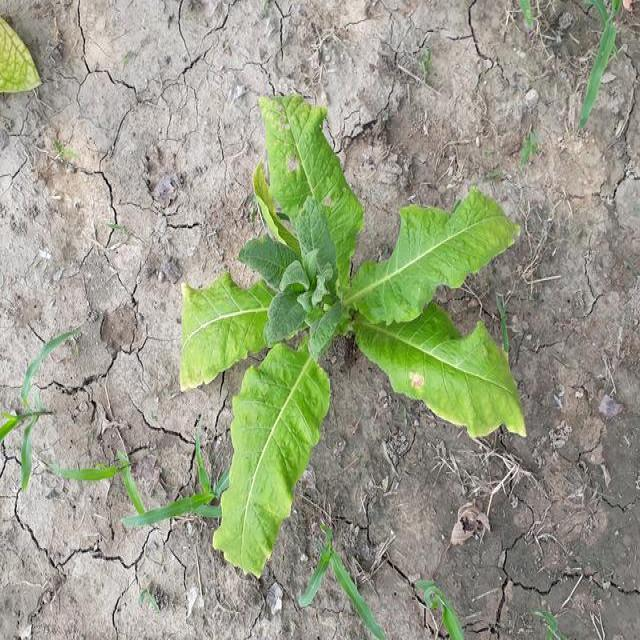crop: (190, 97, 519, 560)
